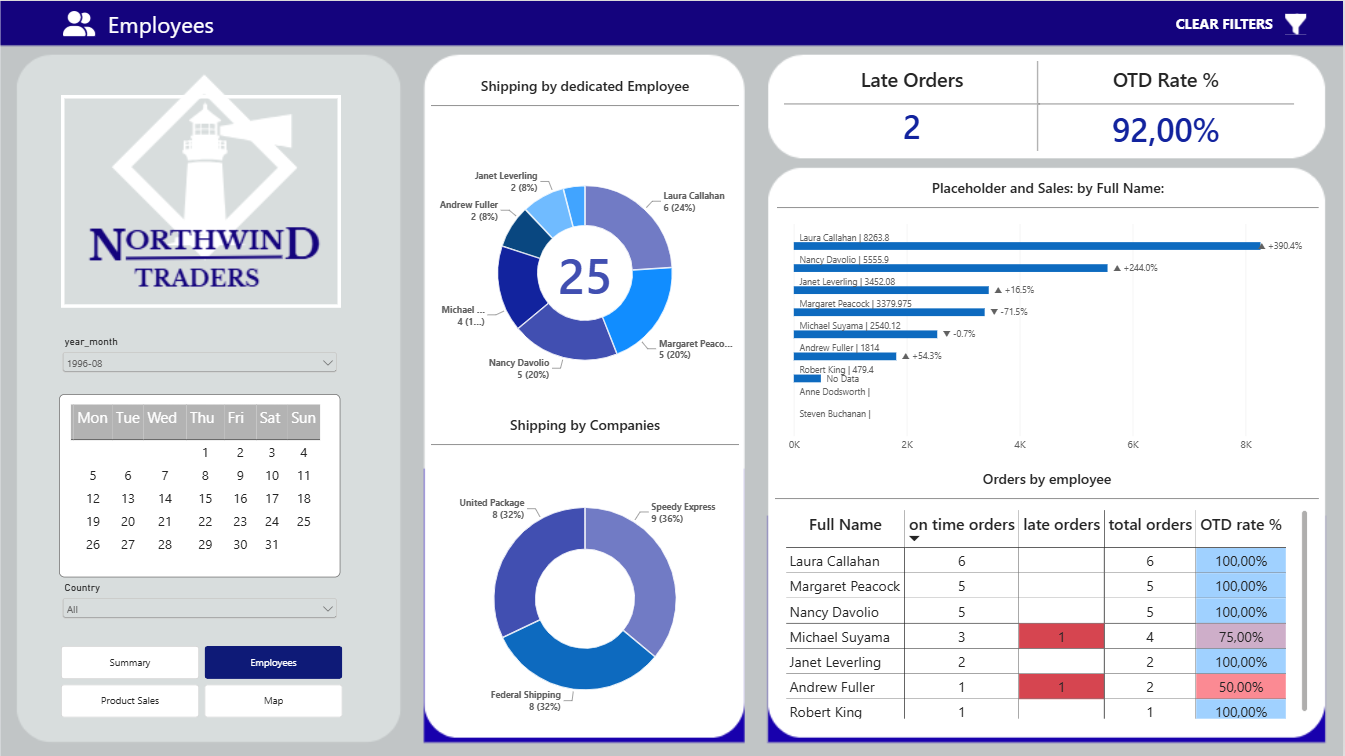

The page's visual inventory and layout, read from the dashboard file:
{"tool":"powerbi","page":{"name":"Employees","canvas":[1920,1080],"ordinal":1},"visuals":[{"type":"image","box":[0,0,1920,1080],"z":0},{"type":"pivotTable","title":"Orders by employee","fields":{"Rows":["Employees.Full Name"],"Values":["Mesures.orders_on_time","Mesures.tot_late_orders","Mesures.tot_orders","Mesures.OTD_rate_%"]},"box":[1108.2,654.6,777.1,385.5],"z":1000},{"type":"card","title":"Late Orders","fields":{"Values":["Mesures.tot_late_orders"]},"box":[1121,77.9,365.7,145],"z":2000},{"type":"card","title":"OTD Rate %","fields":{"Values":["Mesures.OTD_rate_%"]},"box":[1484.6,77.9,365.7,151.5],"z":3000},{"type":"donutChart","title":"Shipping by Companies","fields":{"Category":["Shippers.CompanyName"],"Y":["Mesures.tot_shipments"]},"box":[616.8,577.5,439.9,495.9],"z":4000},{"type":"donutChart","title":"Shipping by dedicated Employee","fields":{"Category":["Employees.Full Name"],"Y":["Mesures.tot_shipments"]},"box":[616.8,92.2,439.9,533.7],"z":5000},{"type":"clusteredBarChart","fields":{"Category":["Employees.Full Name"],"Y":["Mesures.Placeholder","Mesures.tot_revenue"]},"box":[1111.2,238.9,774,424.8],"z":6000},{"type":"shape","box":[1430.2,86.2,107.3,128.5],"z":7000},{"type":"slicer","fields":{"Values":["Customers.Country"]},"box":[86,830,402,80],"z":8000},{"type":"slicer","fields":{"Values":["calendar.year_month"]},"box":[86,478,402,84],"z":9000},{"type":"pivotTable","fields":{"Columns":["calendar.day_name"],"Rows":["calendar.week_number"],"Values":["Min(calendar.day_number)"]},"box":[86,562,401.7,261.7],"z":10000},{"type":"pageNavigator","box":[88,922,402,102],"z":11000},{"type":"shape","box":[88,134,400,304],"z":12000},{"type":"actionButton","box":[1832,10,42,46],"z":13000},{"type":"actionButton","box":[1656,12,176,40],"z":14000},{"type":"image","box":[92,4,46,56],"z":15000},{"type":"textbox","box":[156,10,178,62],"z":16000}]}

Visuals, with their boxes in screenshot pixels (x1, y1, x2, y2), scaled from the page's 1920x1080 canvas onto the 1345x756 screenshot:
image: {"left": 0, "top": 0, "right": 1344, "bottom": 755}
"Orders by employee" pivotTable: {"left": 776, "top": 458, "right": 1321, "bottom": 728}
"Late Orders" card: {"left": 785, "top": 55, "right": 1041, "bottom": 156}
"OTD Rate %" card: {"left": 1040, "top": 55, "right": 1296, "bottom": 161}
"Shipping by Companies" donutChart: {"left": 432, "top": 404, "right": 740, "bottom": 751}
"Shipping by dedicated Employee" donutChart: {"left": 432, "top": 65, "right": 740, "bottom": 438}
clusteredBarChart - Employees.Full Name x Mesures.Placeholder: {"left": 778, "top": 167, "right": 1321, "bottom": 465}
shape: {"left": 1002, "top": 60, "right": 1077, "bottom": 150}
slicer - Customers.Country: {"left": 60, "top": 581, "right": 342, "bottom": 637}
slicer - calendar.year_month: {"left": 60, "top": 335, "right": 342, "bottom": 393}
pivotTable - calendar.day_name x calendar.week_number: {"left": 60, "top": 393, "right": 342, "bottom": 577}
pageNavigator: {"left": 62, "top": 645, "right": 343, "bottom": 717}
shape: {"left": 62, "top": 94, "right": 342, "bottom": 307}
actionButton: {"left": 1283, "top": 7, "right": 1313, "bottom": 39}
actionButton: {"left": 1160, "top": 8, "right": 1283, "bottom": 36}
image: {"left": 64, "top": 3, "right": 97, "bottom": 42}
textbox: {"left": 109, "top": 7, "right": 234, "bottom": 50}
